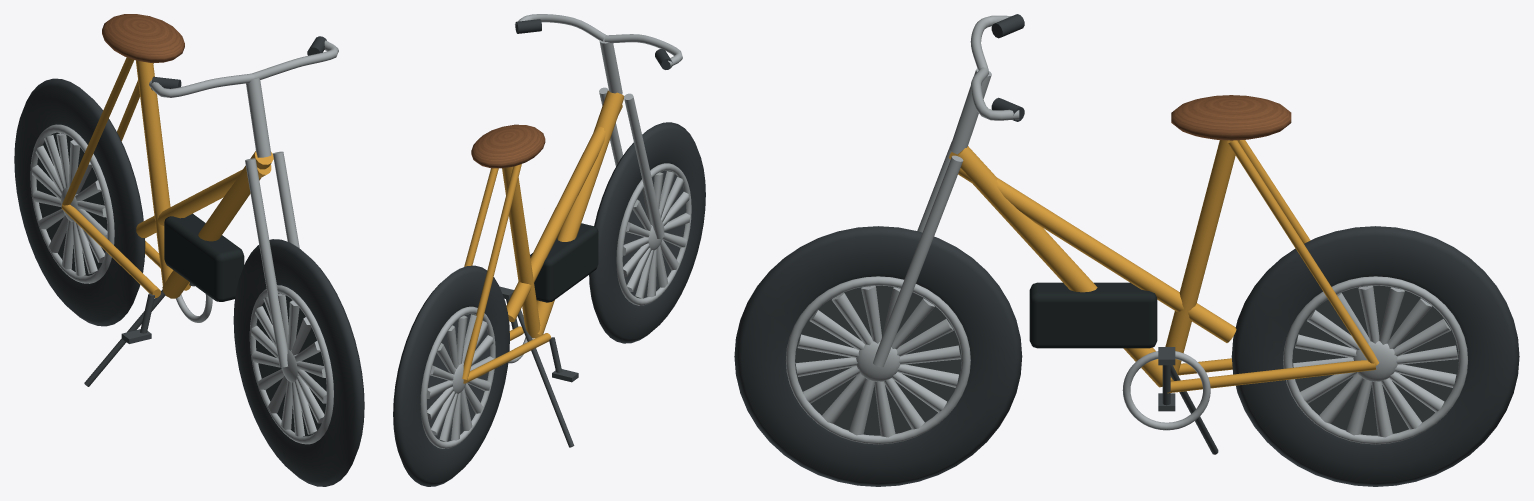
File: veh_ebike_commuter-3236ca020ff6.glb
3 views of the same model, side by side, from view 1: azimuth 30°, elevation 25°; view 2: azimuth 150°, elevation 25°; view 3: azimuth 270°, elevation 25° (orthographic). The views are drawn at different scales.
Visible parts, largest first — view 1: surface_rubber (×3), surface_steel (×4), surface_#d29a3b, surface_graphite (×3), surface_black, surface_walnut; view 2: surface_rubber (×3), surface_steel (×3), surface_#d29a3b, surface_graphite (×3), surface_black, surface_walnut; view 3: surface_rubber (×3), surface_steel (×4), surface_#d29a3b, surface_graphite (×3), surface_black, surface_walnut.
Boxes of the visible parts, x1=… form: surface_rubber (×3): x1=14, y1=36, x2=364, y2=486; surface_steel (×4): x1=30, y1=40, x2=338, y2=444; surface_#d29a3b: x1=61, y1=57, x2=273, y2=298; surface_graphite (×3): x1=36, y1=132, x2=326, y2=436; surface_black: x1=164, y1=213, x2=244, y2=301; surface_walnut: x1=102, y1=14, x2=184, y2=62; surface_rubber (×3): x1=393, y1=19, x2=705, y2=486; surface_steel (×3): x1=420, y1=14, x2=691, y2=448; surface_#d29a3b: x1=462, y1=90, x2=624, y2=383; surface_graphite (×3): x1=427, y1=170, x2=686, y2=447; surface_black: x1=530, y1=223, x2=598, y2=302; surface_walnut: x1=471, y1=124, x2=545, y2=168; surface_rubber (×3): x1=734, y1=14, x2=1519, y2=486; surface_steel (×4): x1=786, y1=15, x2=1467, y2=444; surface_#d29a3b: x1=949, y1=140, x2=1379, y2=393; surface_graphite (×3): x1=795, y1=285, x2=1458, y2=454; surface_black: x1=1029, y1=282, x2=1157, y2=348; surface_walnut: x1=1171, y1=95, x2=1291, y2=140.
Size of the model in its own units: 0.5344 by 1.08 by 1.78.
Materials: 6 (1 with a texture image).
